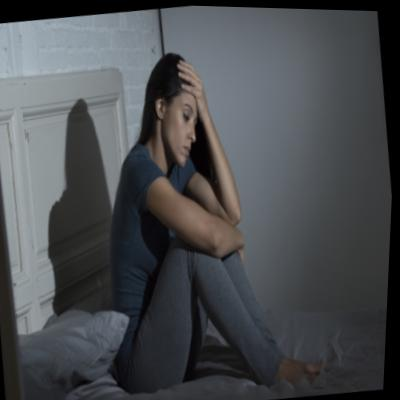sad: (160, 72, 205, 165)
